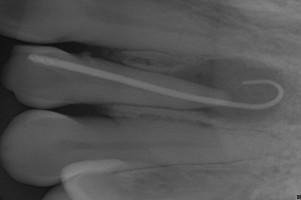Furcation Involvement: (170, 59, 287, 124)
